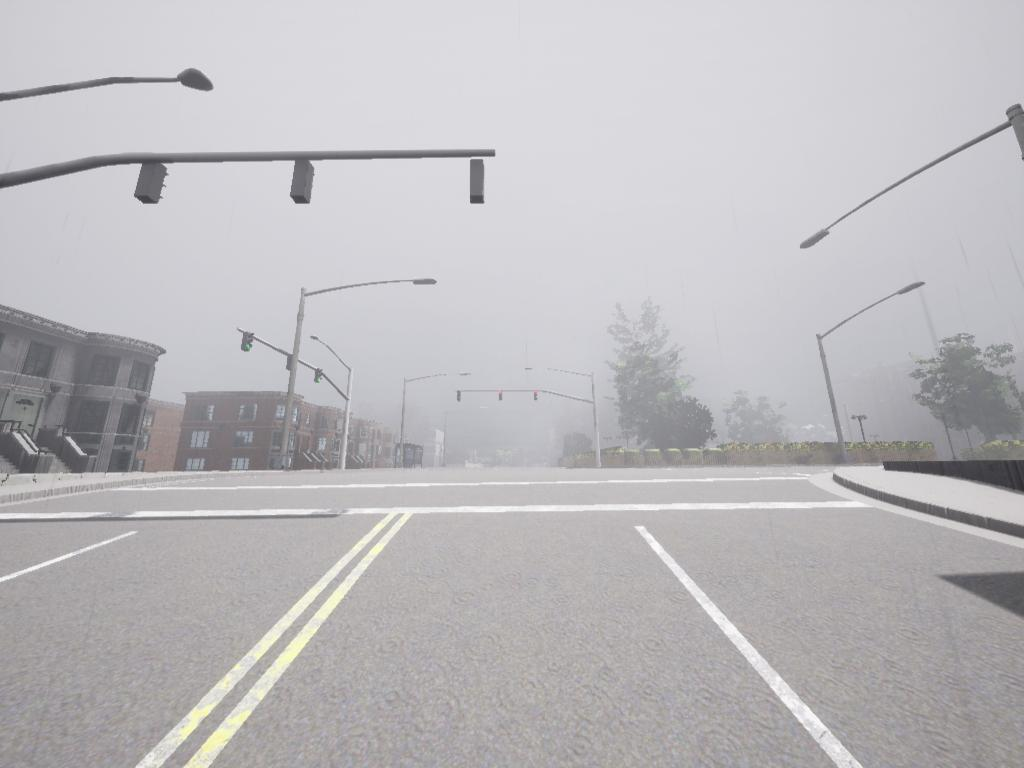traffic_light: (133, 165, 168, 206), (291, 159, 316, 206), (470, 162, 488, 205), (239, 331, 252, 352), (314, 368, 326, 385), (287, 358, 294, 373), (533, 390, 540, 404), (457, 392, 463, 405), (499, 392, 505, 404)
